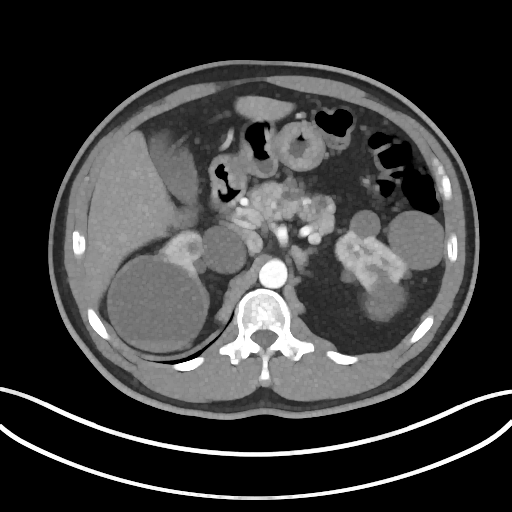Lesion: (104, 256, 208, 356)
